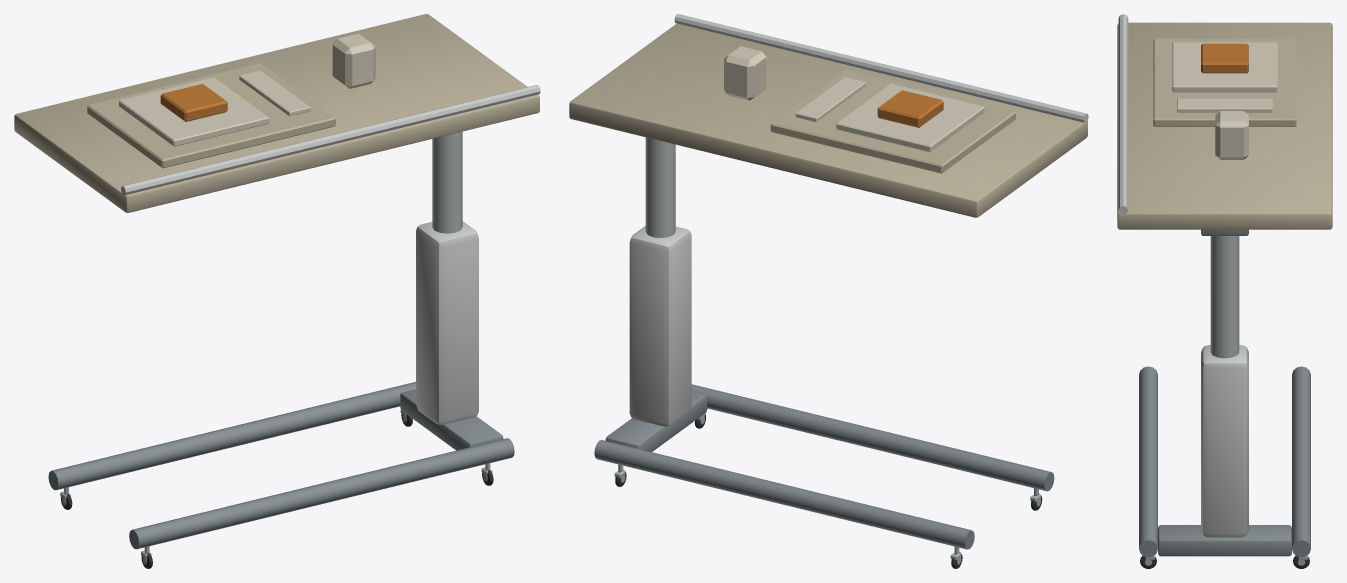
File: overbed-table.glb
3 renders of one model, left to right at view 1: azimuth 30°, elevation 25°; view 2: azimuth 150°, elevation 25°; view 3: azimuth 270°, elevation 25°, orthographic. The views are drawn at different scales.
Visible parts, largest first — view 1: overbed-table; view 2: overbed-table; view 3: overbed-table.
Boxes of the visible parts, x1,y1,x2,y2 form: overbed-table: [14, 14, 540, 568]; overbed-table: [569, 14, 1088, 568]; overbed-table: [1117, 14, 1332, 568].
Bounding box in the file's own units: 0.95 × 0.9495 × 0.45.
